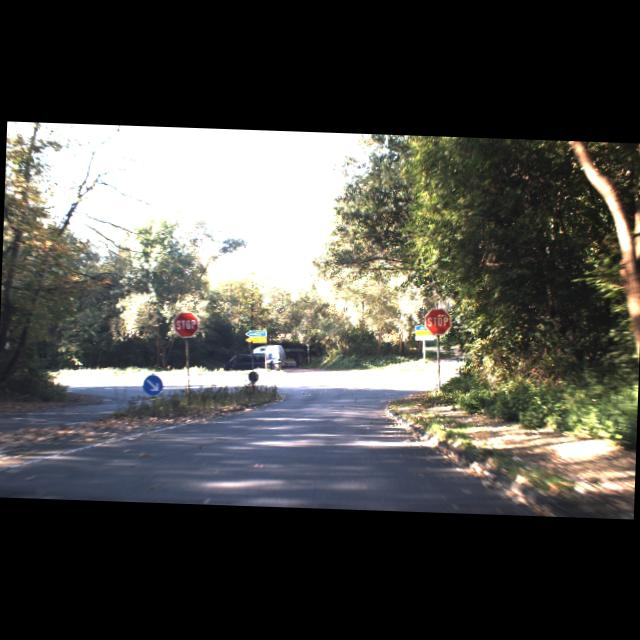mandatory: (142, 374, 162, 396)
other: (424, 307, 451, 335), (173, 311, 199, 338)
